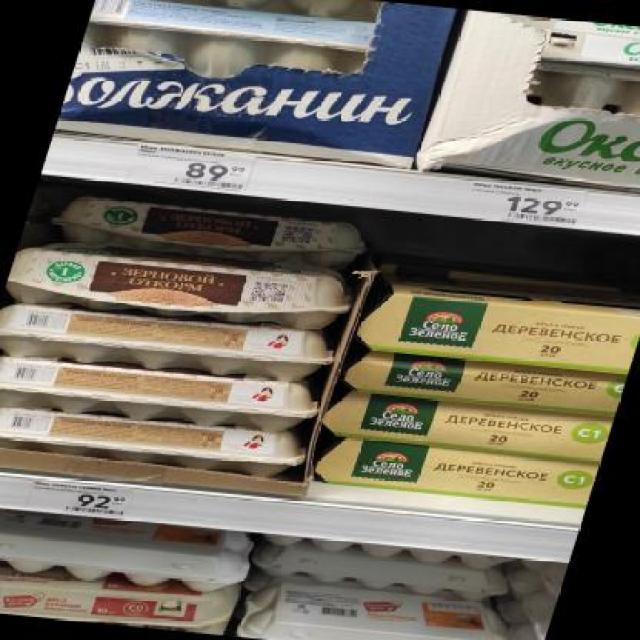Egg: (1, 241, 362, 334), (40, 190, 374, 274), (236, 577, 538, 640), (0, 560, 242, 635), (521, 30, 639, 125), (0, 600, 228, 636)
